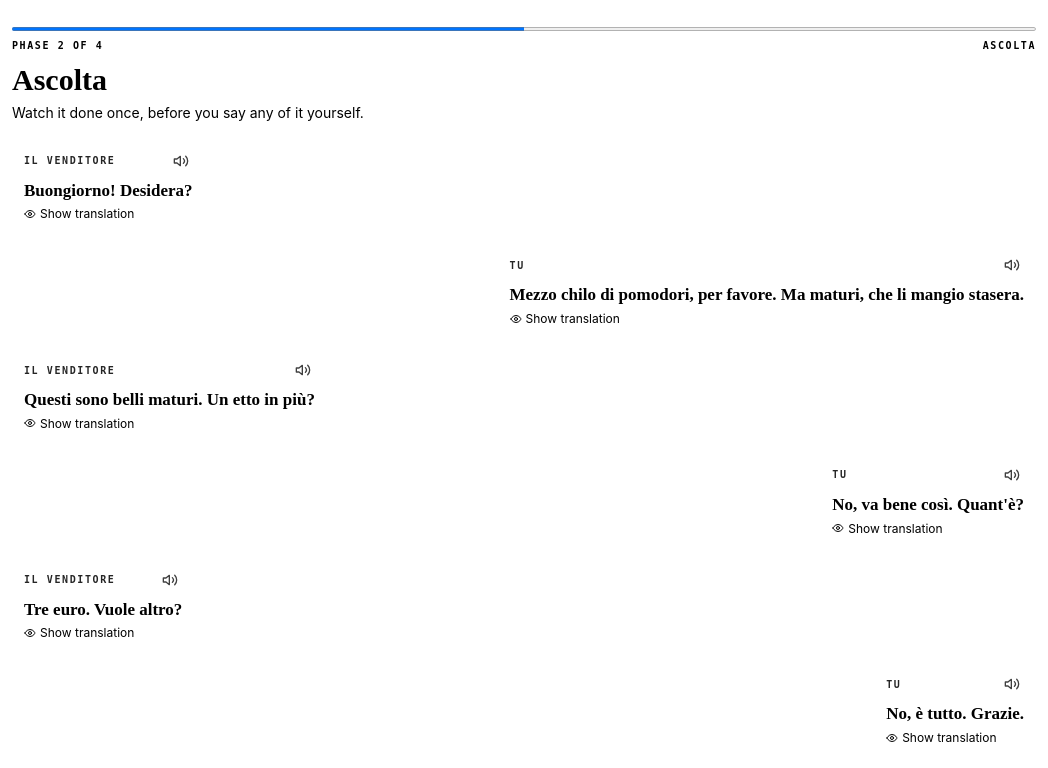
the model dialogue › hides each line's English until it is asked for
Expected: the text "Morning! What can I get you?" is not shown
What coordinates should you click on to do the following:
click the button "Show translation" below "Buongiorno! Desidera?"
I would click on:
 (79, 214)
Its box is [24,206,134,221].
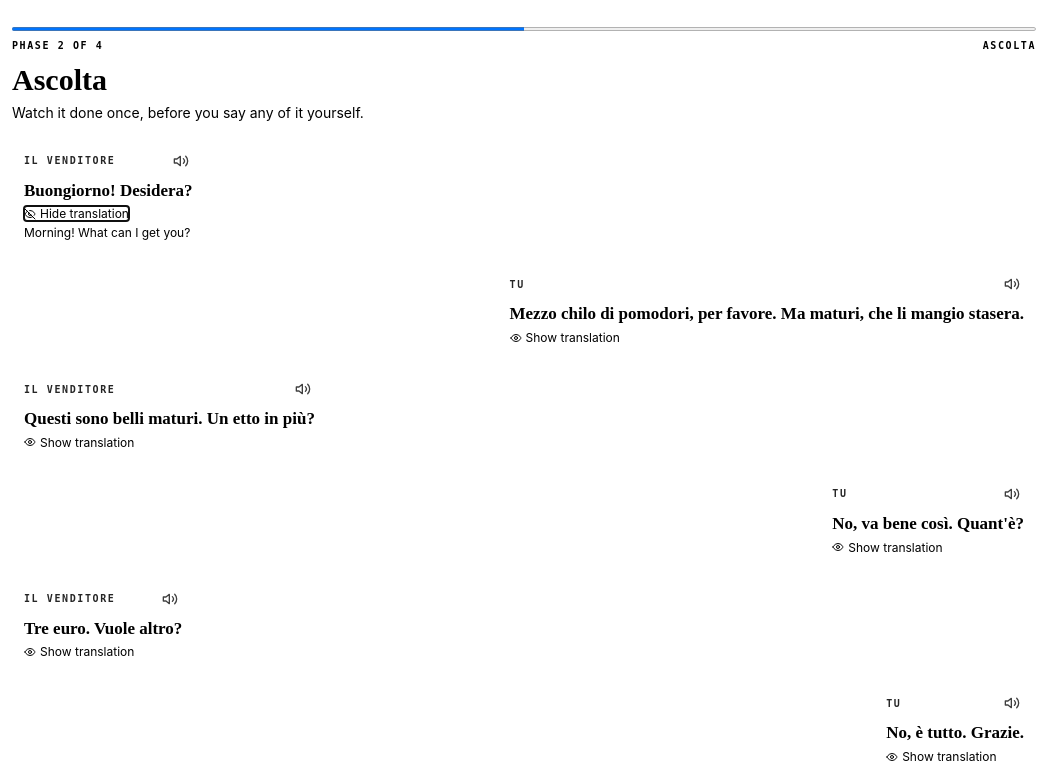
Expected: the text "Morning! What can I get you?" is shown, [24,225,190,240]
